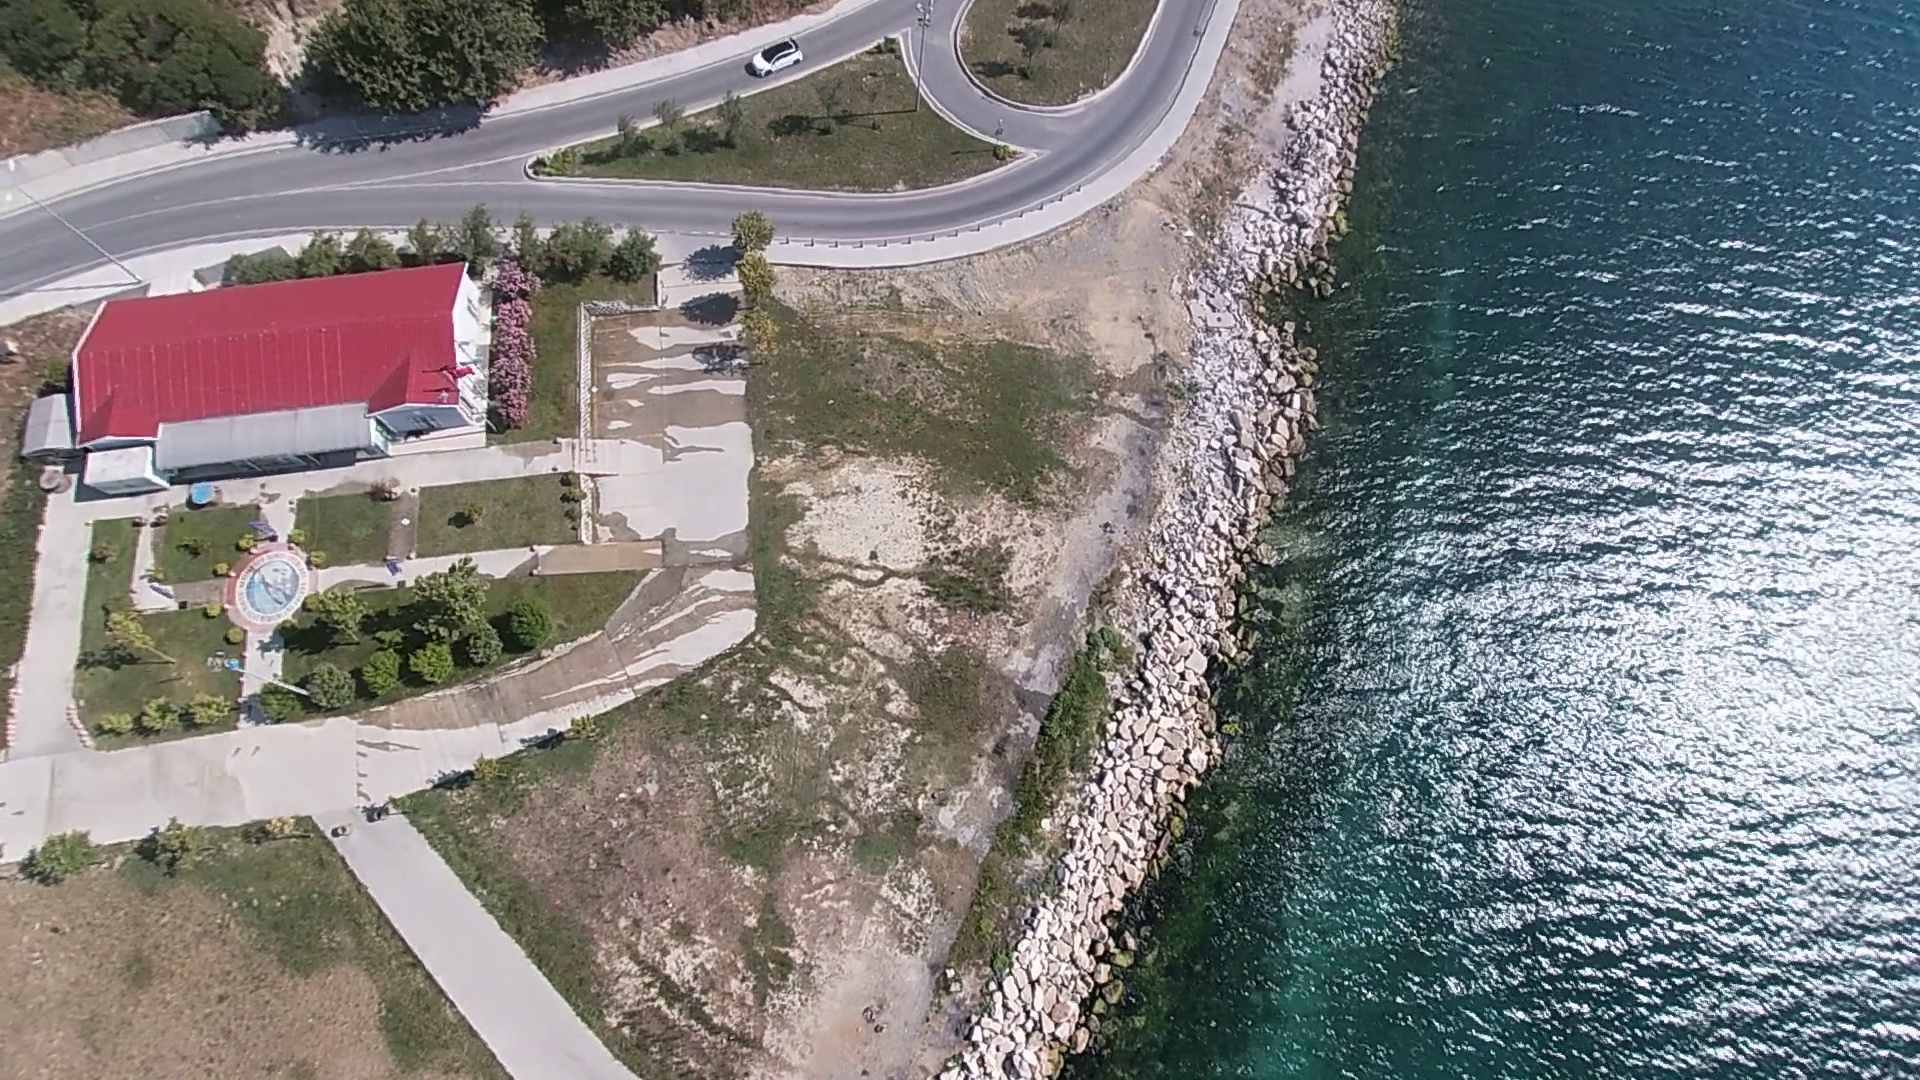arac: (745, 40, 803, 80)
